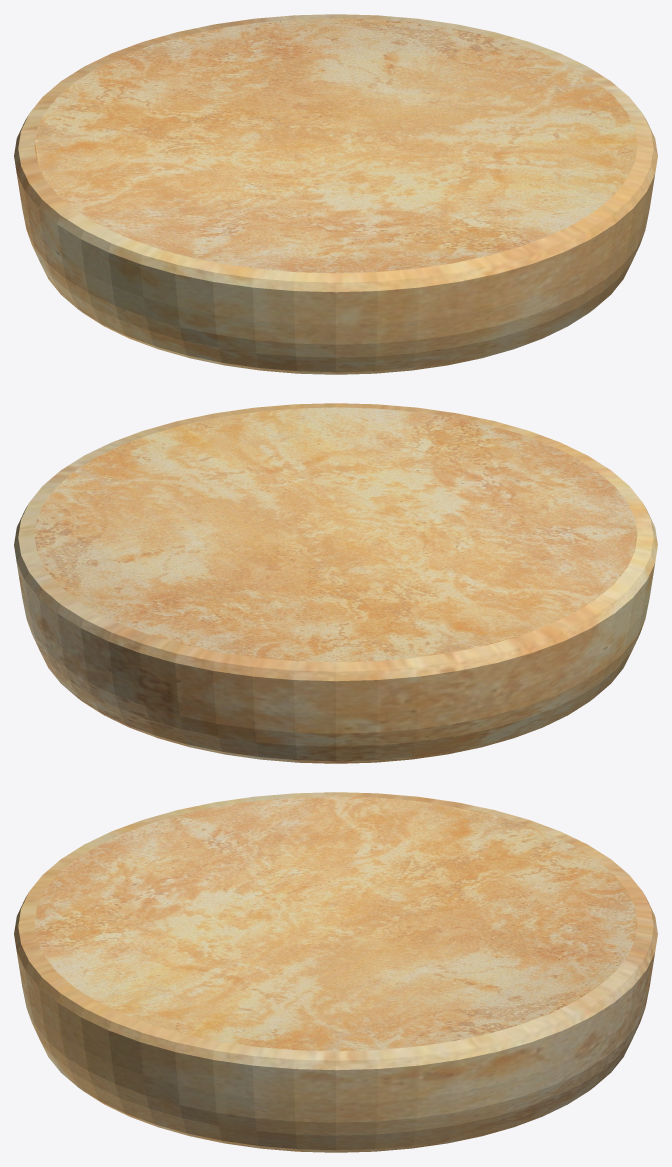
Rendered from BottomBread.fbx.
The picture shows the model from 3 angles, top to bottom: view 1: azimuth 30°, elevation 25°; view 2: azimuth 150°, elevation 25°; view 3: azimuth 270°, elevation 25°; orthographic projection.
Parts seen in each view (by area): view 1: bottom_2; view 2: bottom_2; view 3: bottom_2.
Part boxes in pixels (x1,y1,x2,y2): bottom_2: (14, 14, 657, 374); bottom_2: (14, 403, 657, 763); bottom_2: (14, 792, 657, 1152).
Bounding box in the file's own units: 0.0953 × 0.0175 × 0.0953.
